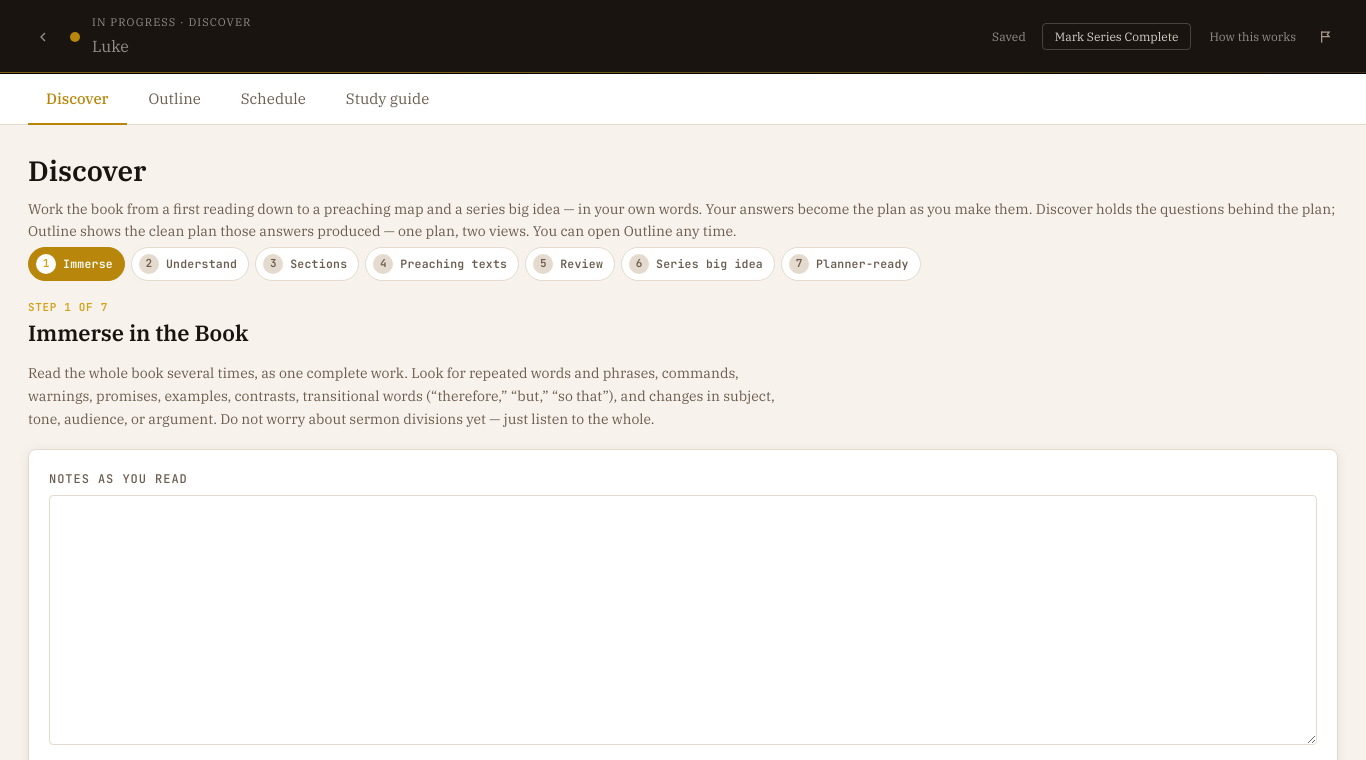
Series Discovery — one series, two views › a preaching text cannot be created before a major section exists — the walk redirects (no phantom Section 1)
Expected: the text "Saved" is shown, left=992, top=29, right=1026, bottom=44
Click the tab with aria-label "Step 4: Identify the Preaching Texts" at x=442, y=264, box left=365, top=247, right=519, bottom=281
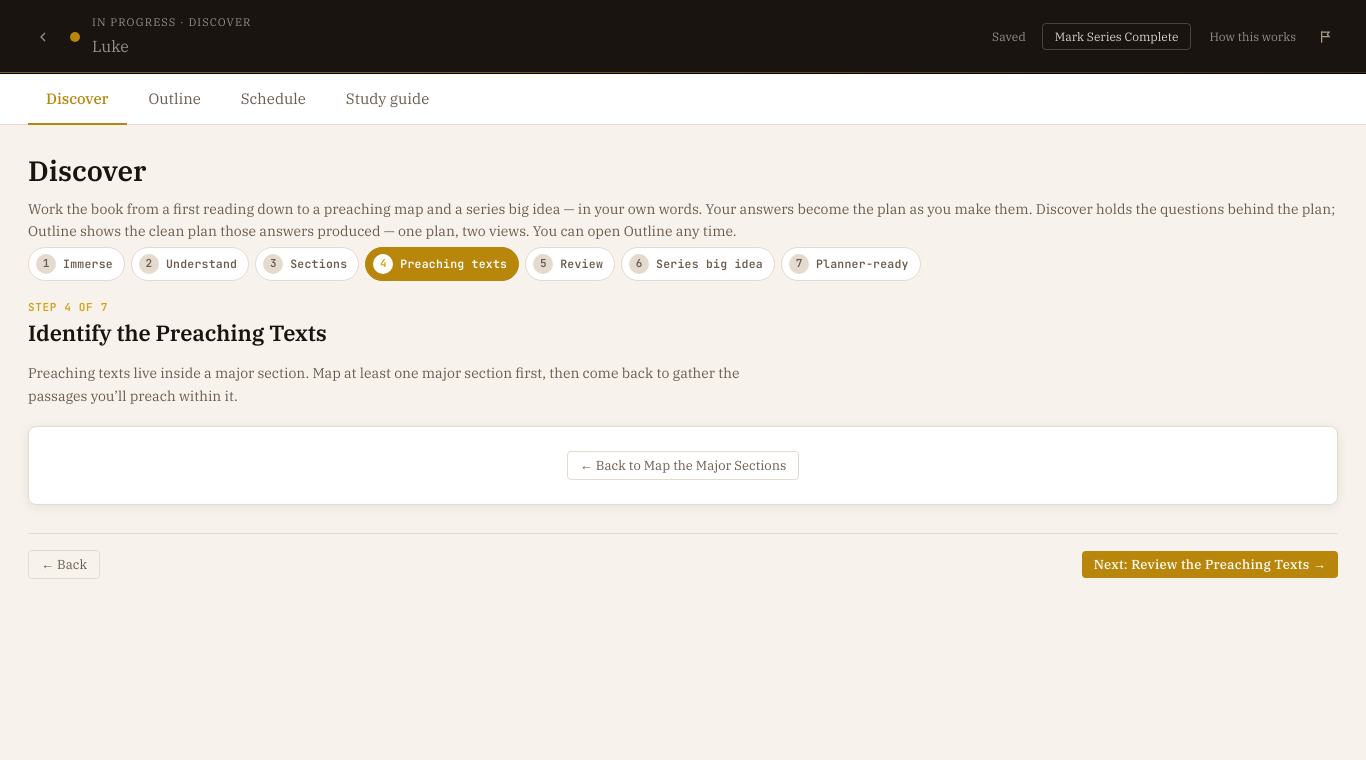
Now the text "Preaching texts live inside a major section" is shown, box left=28, top=364, right=740, bottom=405
Now the button "← Back to Map the Major Sections" is shown, box left=567, top=451, right=799, bottom=480
